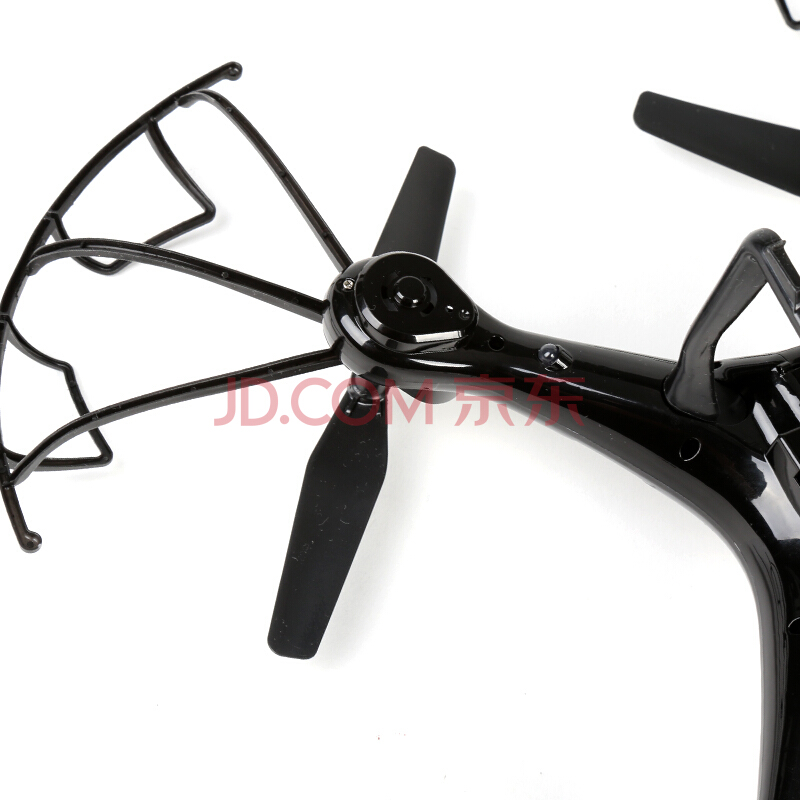drone_rotary_wing: (265, 144, 457, 662)
